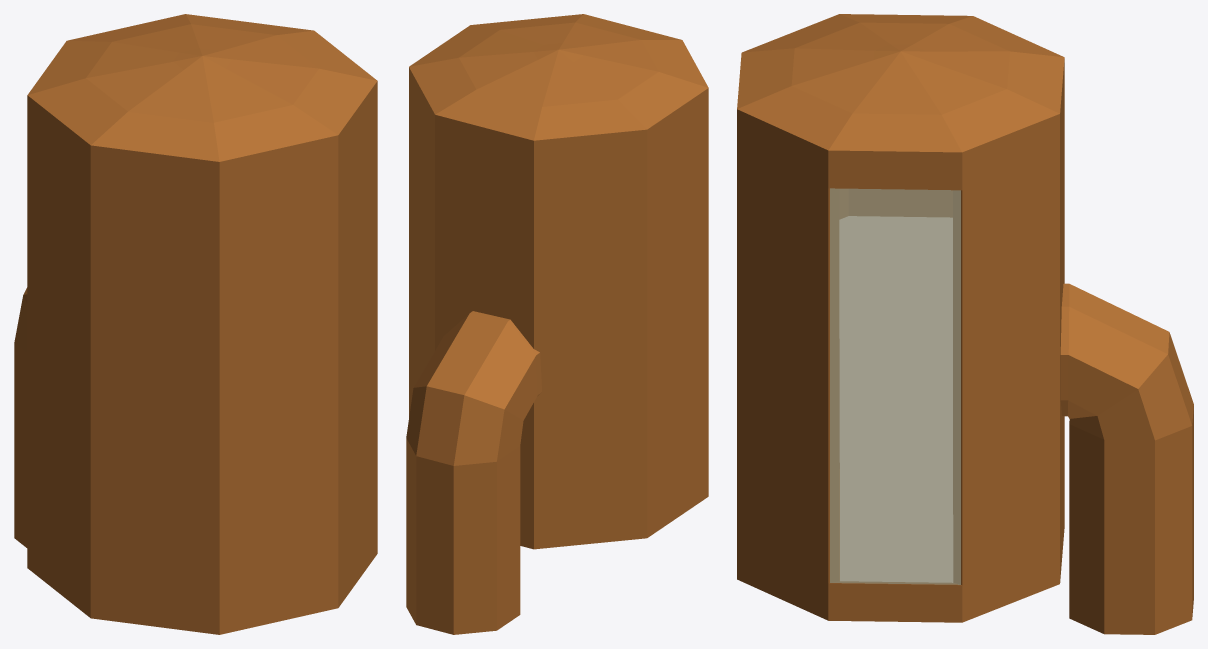
Rendered from VAT60.glb.
3 renders of one model, left to right at view 1: azimuth 30°, elevation 25°; view 2: azimuth 150°, elevation 25°; view 3: azimuth 270°, elevation 25°, orthographic. The views are drawn at different scales.
Visible parts, largest first — view 1: Cylinder, Cylinder.001; view 2: Cylinder, Cylinder.001; view 3: Cylinder, glass, liquidHeight, Cylinder.001.
Boxes of the visible parts, x1=… form: Cylinder: x1=27, y1=14, x2=377, y2=634; Cylinder.001: x1=14, y1=287, x2=27, y2=547; Cylinder: x1=409, y1=14, x2=708, y2=549; Cylinder.001: x1=406, y1=311, x2=541, y2=634; Cylinder: x1=737, y1=14, x2=1064, y2=622; glass: x1=830, y1=188, x2=960, y2=584; liquidHeight: x1=840, y1=216, x2=952, y2=582; Cylinder.001: x1=1060, y1=283, x2=1193, y2=634.
Size of the model in its own units: 1.82 by 3.44 by 2.54.
